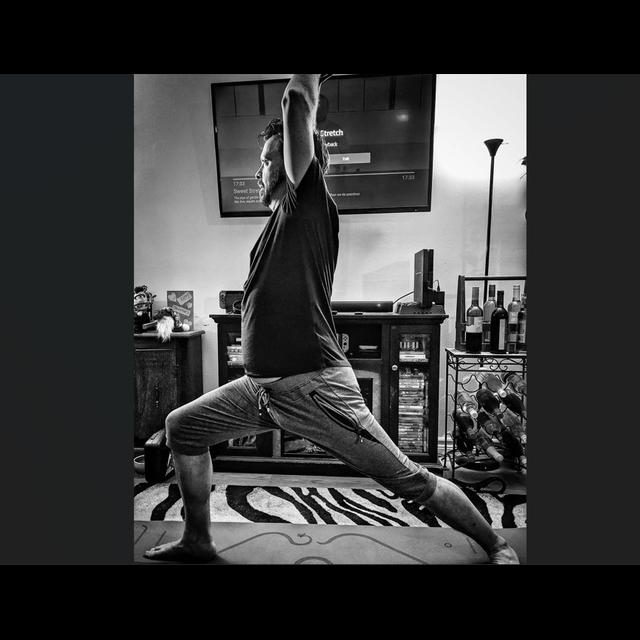Warrior_I: (148, 74, 525, 566)
